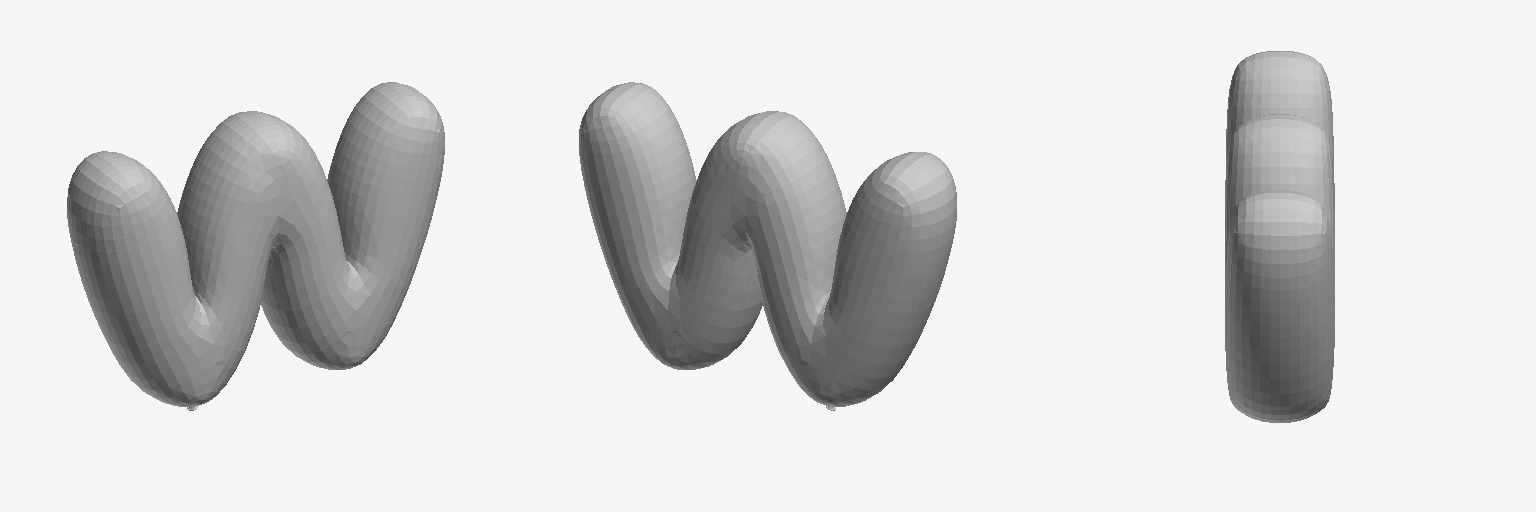
3 renders of one model, left to right at view 1: azimuth 30°, elevation 25°; view 2: azimuth 150°, elevation 25°; view 3: azimuth 270°, elevation 25°, orthographic.
Visible parts, largest first — view 1: Balloon_Alphabet_Subdivision_W_Alphabet_W; view 2: Balloon_Alphabet_Subdivision_W_Alphabet_W; view 3: Balloon_Alphabet_Subdivision_W_Alphabet_W.
Boxes of the visible parts, x1,y1,x2,y2 form: Balloon_Alphabet_Subdivision_W_Alphabet_W: [67, 82, 444, 410]; Balloon_Alphabet_Subdivision_W_Alphabet_W: [579, 82, 956, 410]; Balloon_Alphabet_Subdivision_W_Alphabet_W: [1225, 51, 1334, 422].
Bounding box in the file's own units: 68.92 × 50.29 × 18.13.